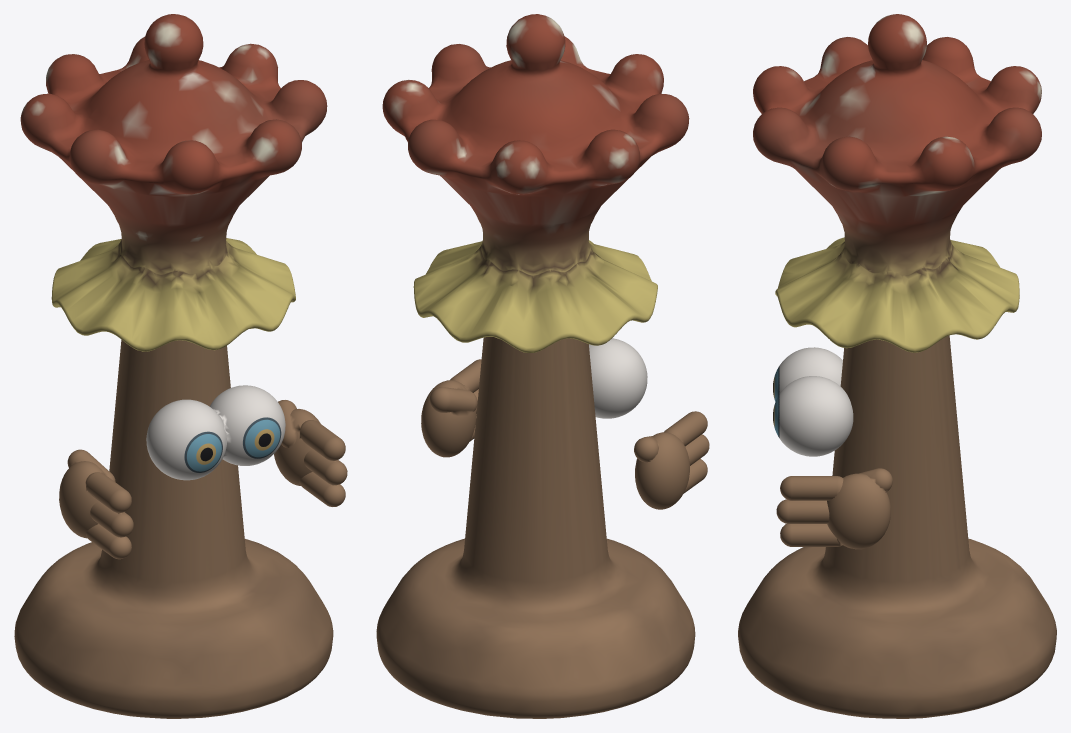
The model's file is queen-dark.glb.
3 views of the same model, side by side, from view 1: azimuth 30°, elevation 25°; view 2: azimuth 150°, elevation 25°; view 3: azimuth 270°, elevation 25° (orthographic).
Visible parts, largest first — view 1: body, eye, hand.1, hand.0; view 2: body, hand.1, hand.0, eye; view 3: body, hand.0, eye.
Boxes of the visible parts, x1,y1,x2,y2 form: body: [14, 14, 333, 718]; eye: [146, 385, 285, 480]; hand.1: [59, 449, 133, 559]; hand.0: [274, 400, 347, 506]; body: [376, 14, 695, 718]; hand.1: [634, 411, 709, 509]; hand.0: [421, 359, 481, 457]; eye: [589, 338, 647, 418]; body: [738, 14, 1056, 718]; hand.0: [776, 468, 892, 549]; eye: [773, 347, 853, 456].
Size of the model in its own units: 2.27 by 5.06 by 2.27.
